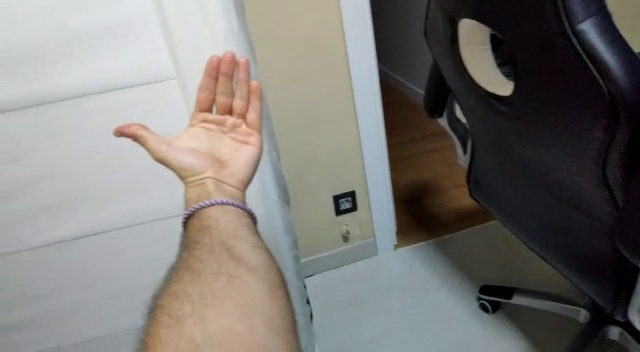Palm: (115, 50, 269, 188)
